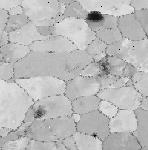good_void: (95, 52, 112, 80), (31, 105, 48, 122), (85, 10, 106, 22), (22, 124, 34, 137), (90, 128, 101, 138), (111, 4, 120, 10), (44, 50, 57, 54)
